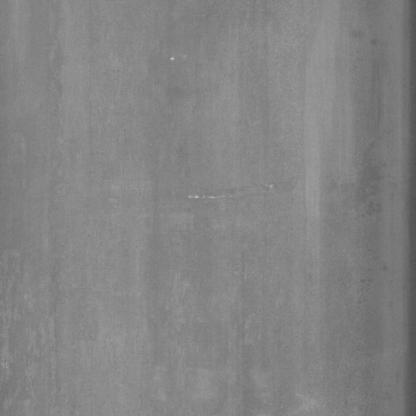crease: (168, 175, 283, 230)
